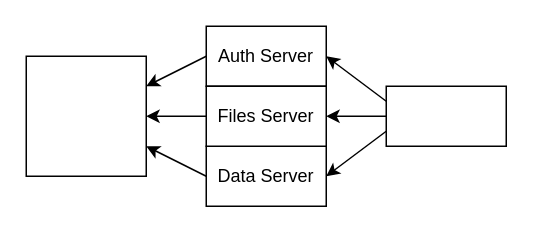
This 533x233 diagram has some shape labels left out. The shapes that lost their labels are listed below. From the top down, each one's box as (x1, y1, x2, y2) in pixels, then its label:
(25, 55, 146, 176): Database
(385, 85, 506, 146): Client
